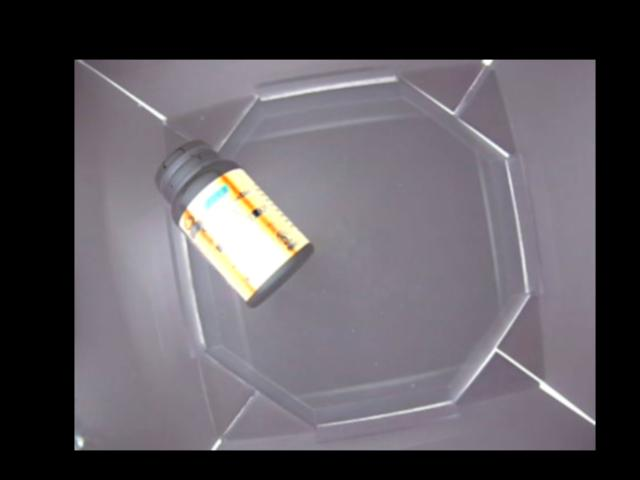Bottle: (154, 141, 313, 307)
